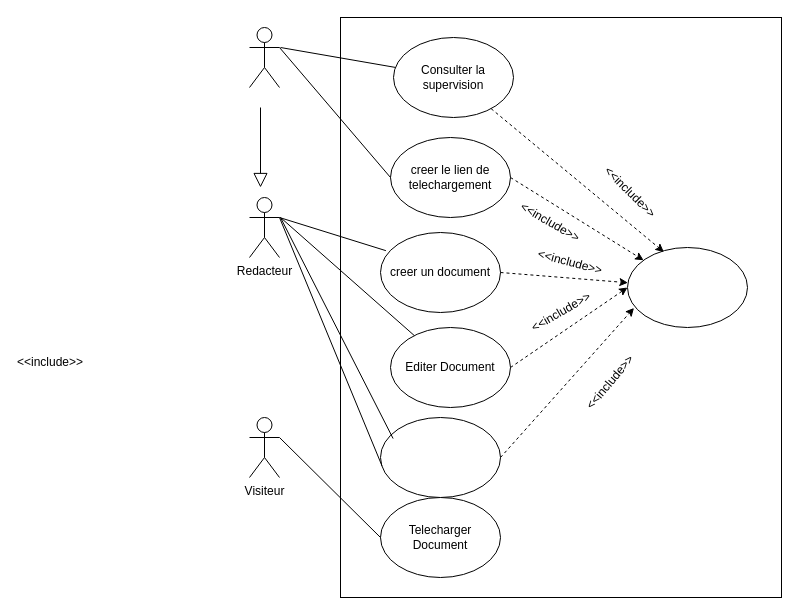
This 799x615 diagram has some shape labels left out. The box of each missing label's shape, as (x1, y1, x2, y2) in pixels:
Authentifier: (626, 246, 748, 328)
Chef Association: (248, 26, 280, 88)
restaurer version: (380, 416, 500, 498)
